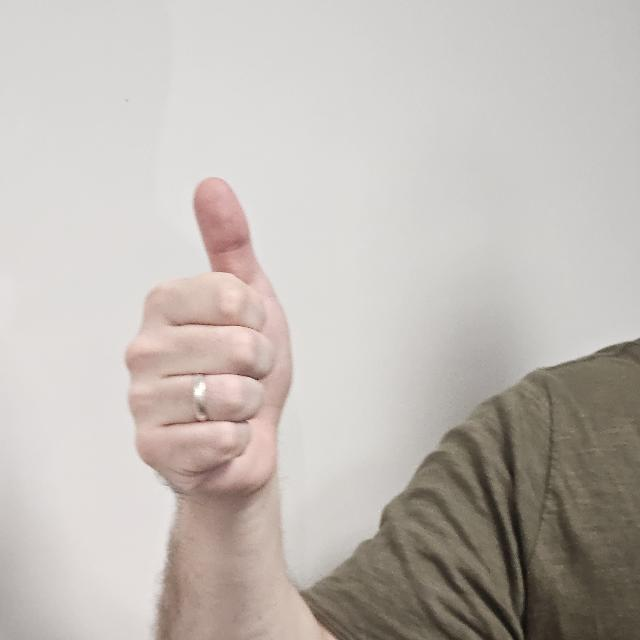Start: (125, 178, 292, 520)
